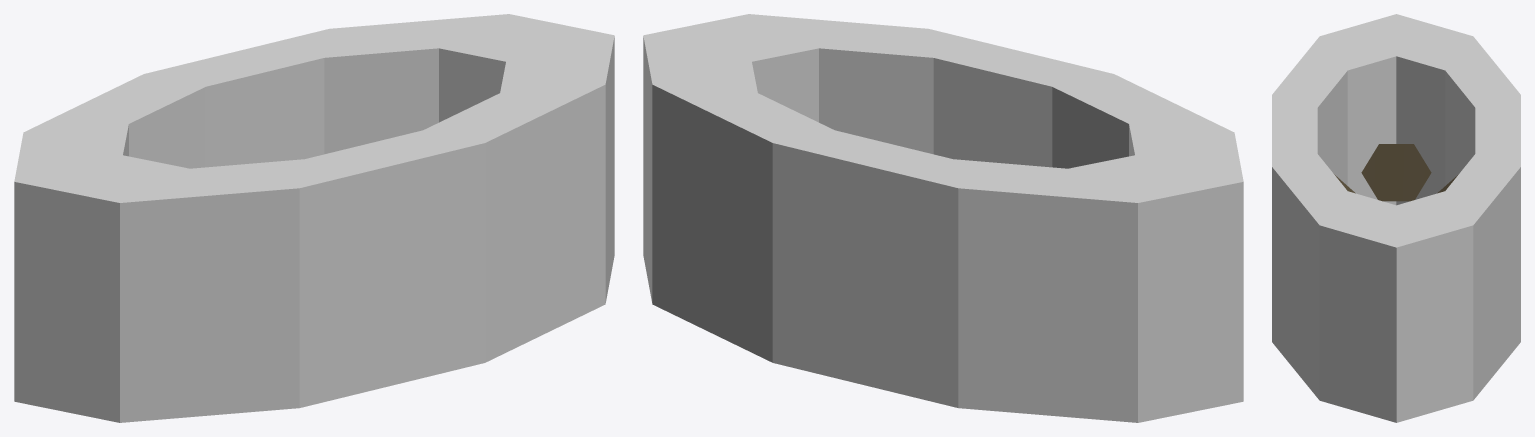
Rendered from WarrensC_PWC16_RootSocketCollar_Mars_SM.fbx.
3 renders of one model, left to right at view 1: azimuth 30°, elevation 25°; view 2: azimuth 150°, elevation 25°; view 3: azimuth 270°, elevation 25°, orthographic. The views are drawn at different scales.
Parts seen in each view (by area): view 1: WarrensC_PWC16_RootSocketCollar_Mars_SM.001; view 2: WarrensC_PWC16_RootSocketCollar_Mars_SM.001; view 3: WarrensC_PWC16_RootSocketCollar_Mars_SM.001.
Boxes of the visible parts, bbox=[...] form: WarrensC_PWC16_RootSocketCollar_Mars_SM.001: bbox=[14, 14, 614, 422]; WarrensC_PWC16_RootSocketCollar_Mars_SM.001: bbox=[643, 14, 1243, 422]; WarrensC_PWC16_RootSocketCollar_Mars_SM.001: bbox=[1272, 14, 1520, 422].
Size of the model in its own units: 100 by 45 by 35.
